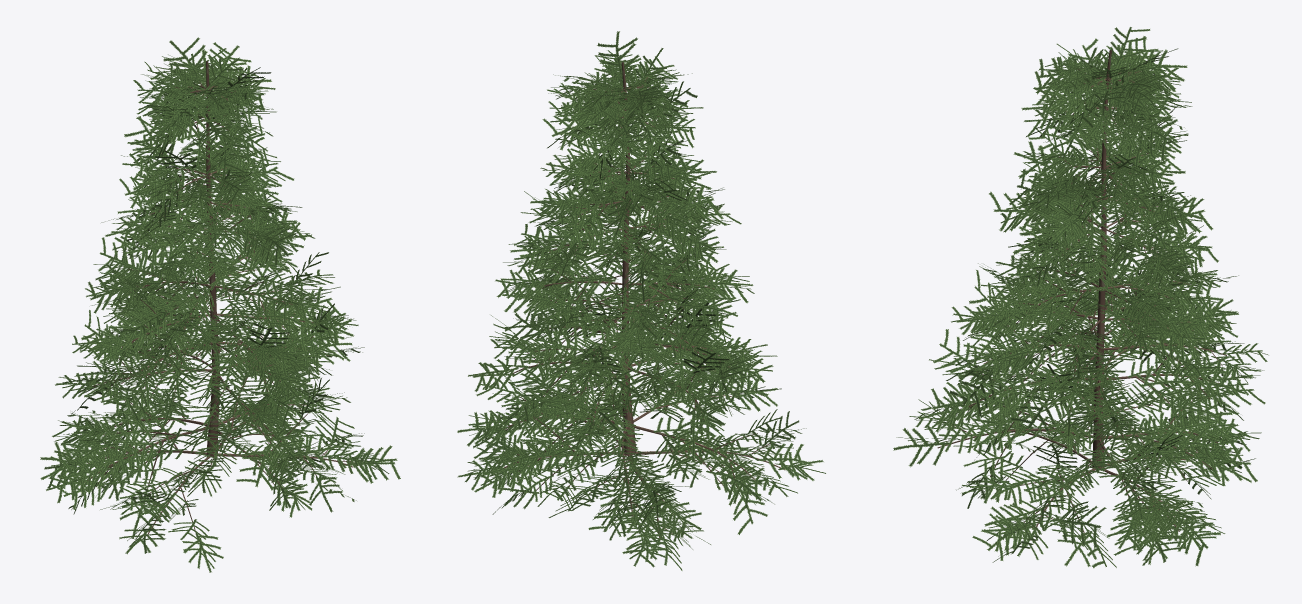
File: smrk_mlady.glb
The picture shows the model from 3 angles, left to right: view 1: azimuth 30°, elevation 25°; view 2: azimuth 150°, elevation 25°; view 3: azimuth 270°, elevation 25°; orthographic projection. The views are drawn at different scales.
Parts seen in each view (by area): view 1: smrk_mlady; view 2: smrk_mlady; view 3: smrk_mlady.
Part boxes in pixels (bbox=[...]): smrk_mlady: bbox=[40, 37, 400, 572]; smrk_mlady: bbox=[457, 31, 825, 570]; smrk_mlady: bbox=[893, 27, 1268, 568].
Size of the model in its own units: 6.1 by 8.37 by 6.05.
Materials: 2 (2 with a texture image).
